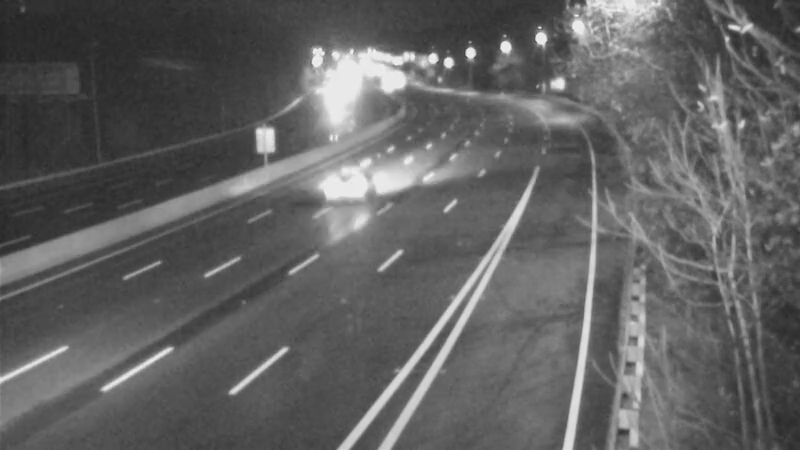vehicle: (311, 146, 391, 226)
